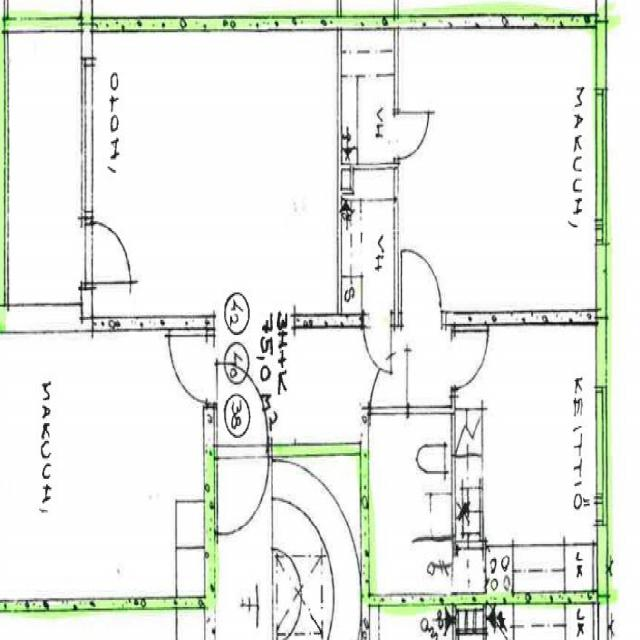door: (217, 444, 268, 539), (217, 362, 268, 456), (164, 336, 214, 403), (402, 252, 442, 331), (85, 223, 129, 283), (370, 347, 408, 413), (452, 334, 490, 389), (364, 317, 392, 376), (394, 112, 428, 158)
